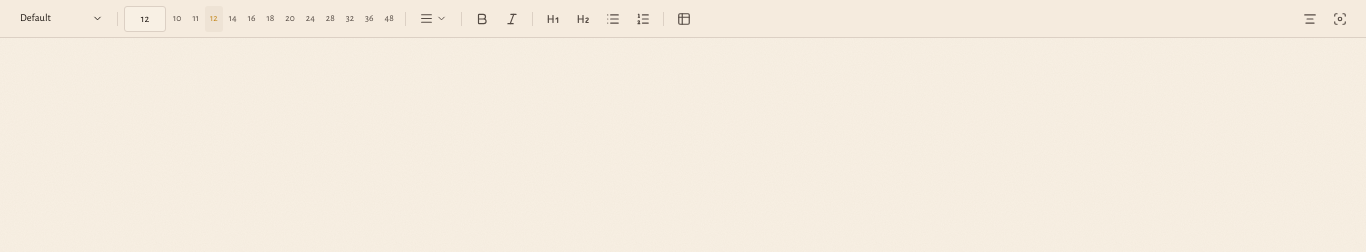
Test: EditorToolbar › clicking Table button opens grid picker dropdown
Step 1. Click the button titled "Table" → (684,18), box [670,6,698,32]
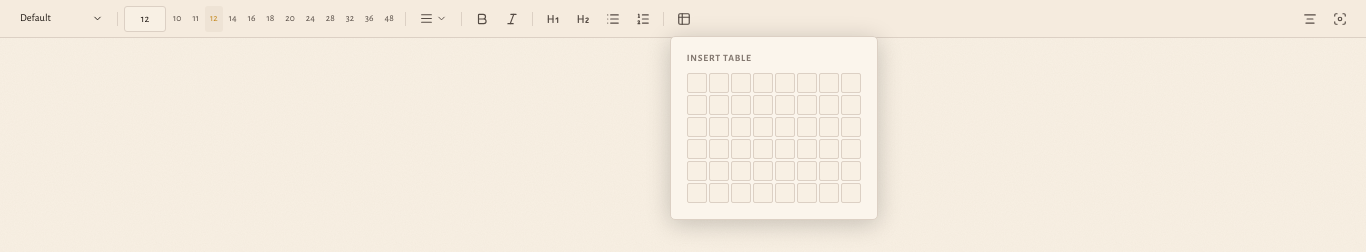
Now the text "Insert table" is shown, box [687,52,752,62]
